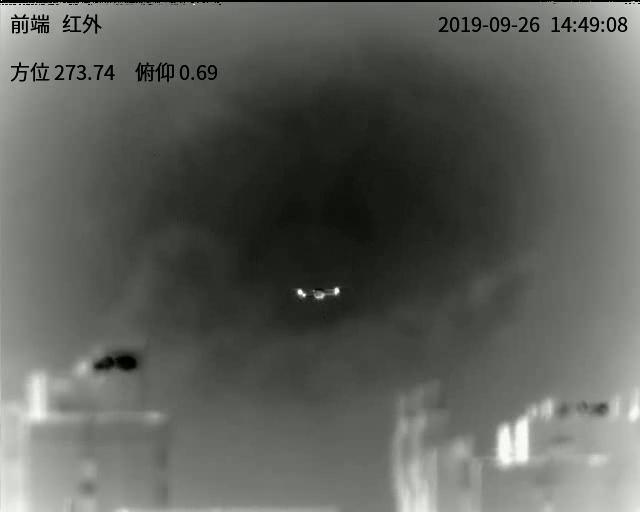DRONE: (295, 285, 340, 300)
